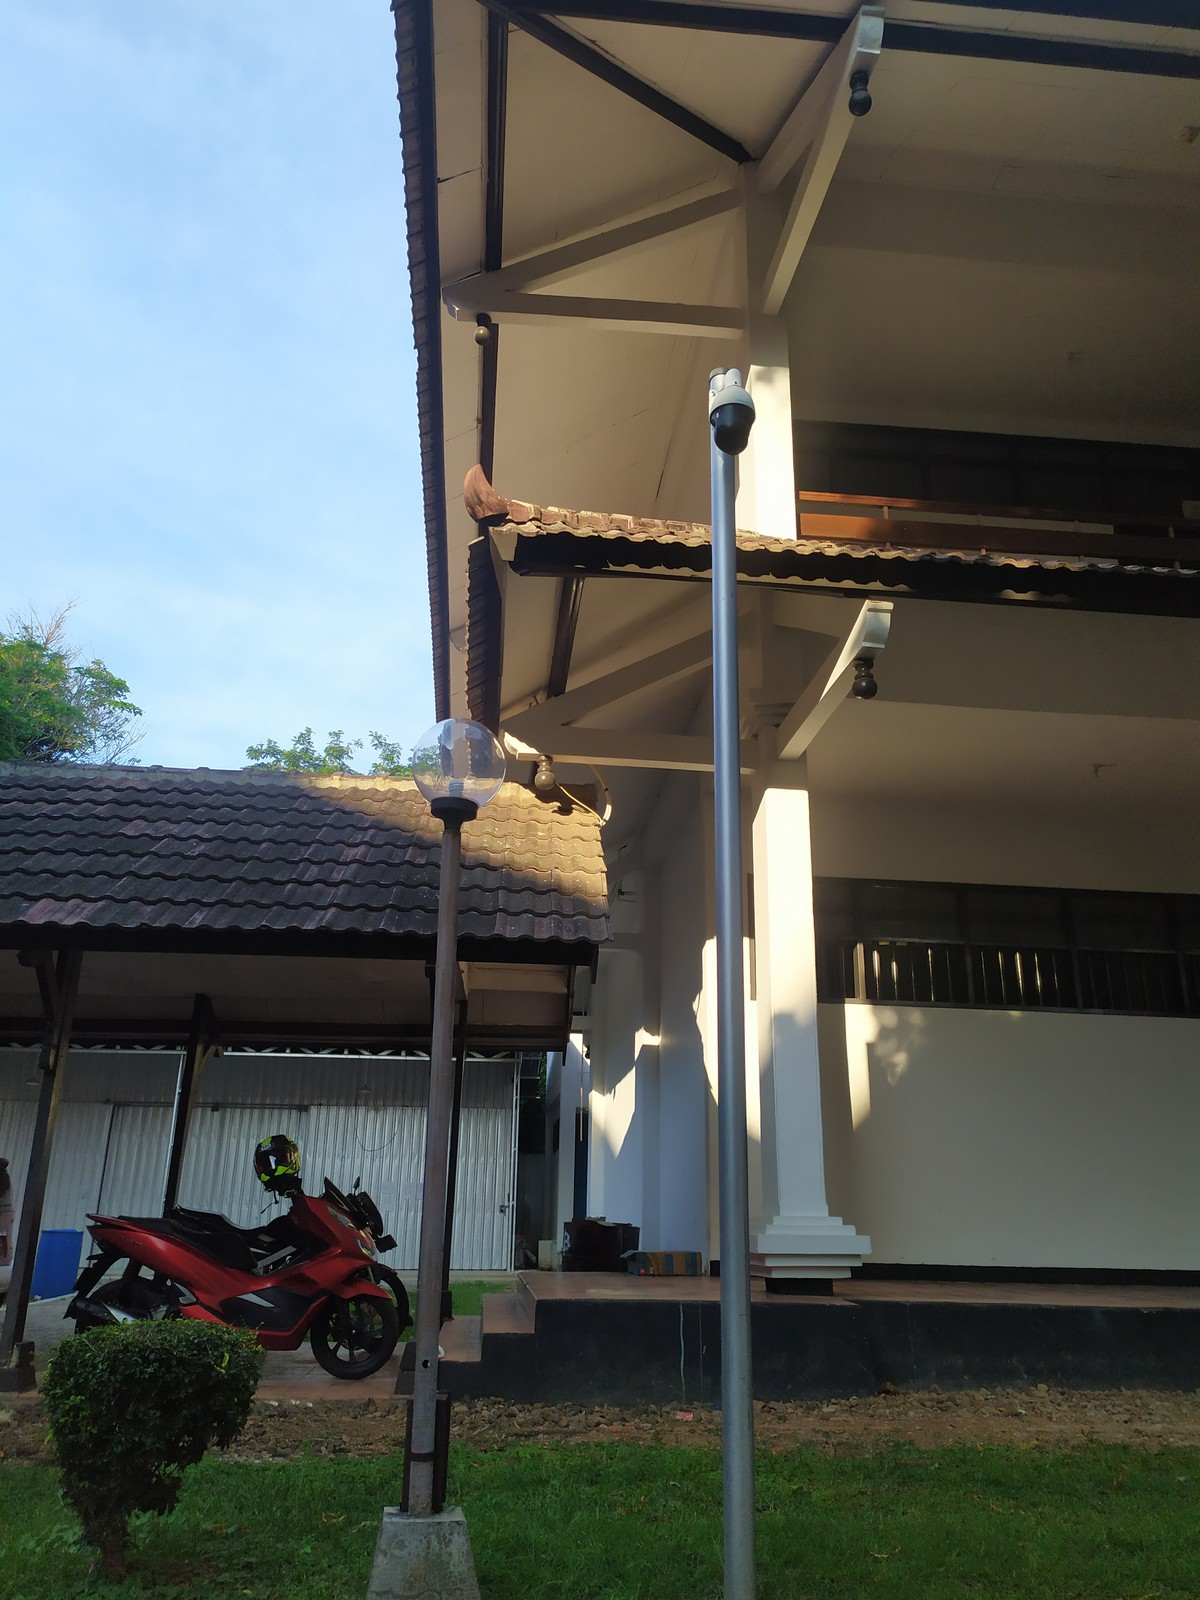concrete beam: (503, 282, 747, 344), (556, 732, 758, 782)
concrete column: (736, 590, 853, 1238), (730, 147, 805, 539)
